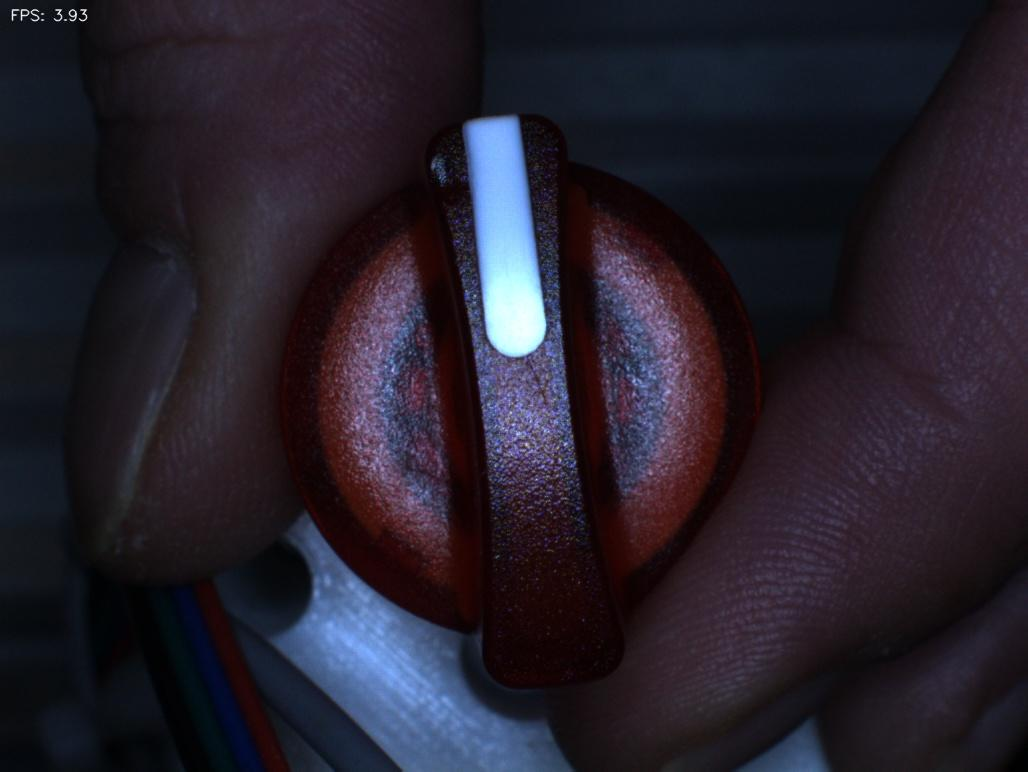Choc: (389, 126, 474, 213)
